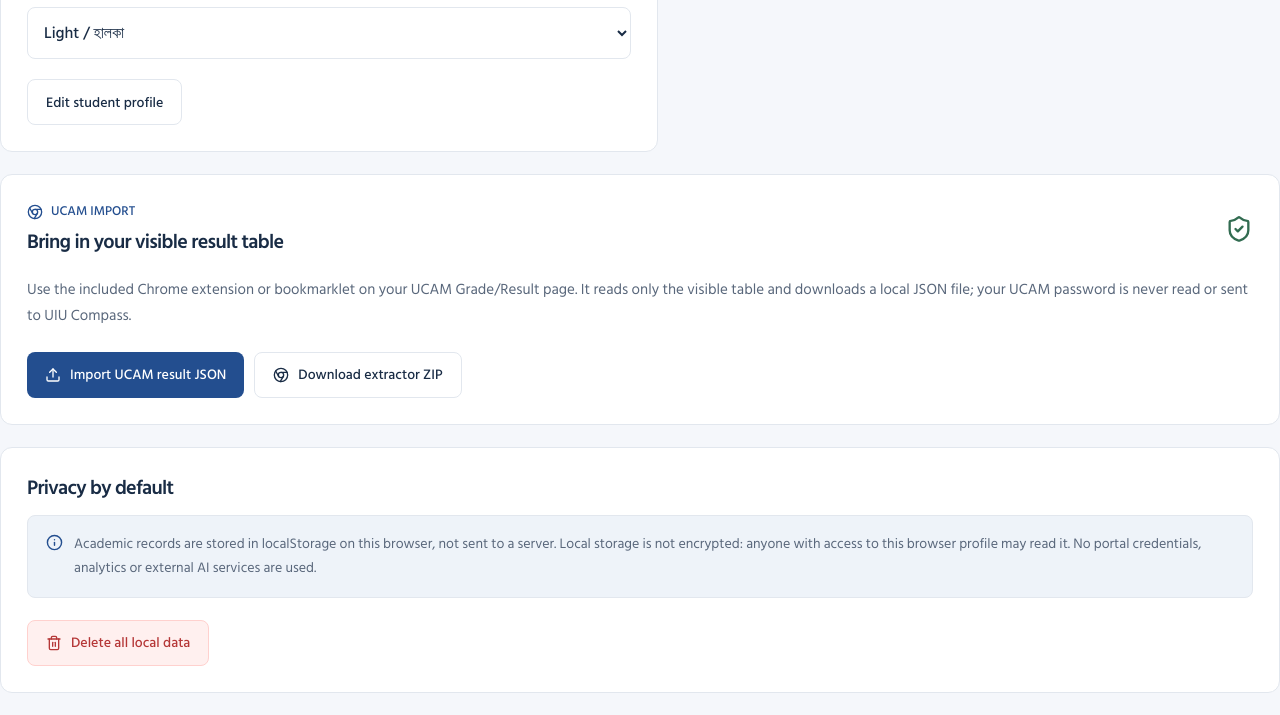
Test: requires confirmation before deletion
(page scrolled)
Click the button "Delete all local data".
click(118, 643)  # box [27,620,209,666]
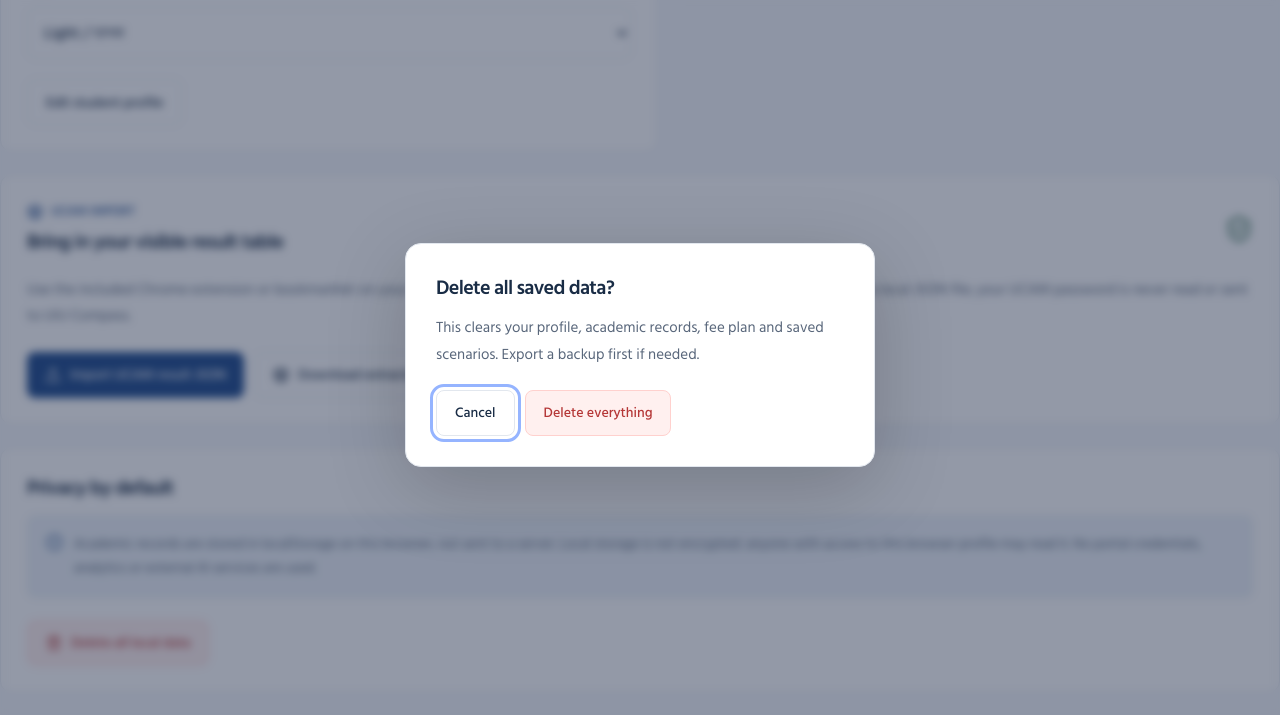
Expected: the dialog is shown, [405,243,875,467]
Click the button "Cancel".
click(475, 413)  # box [436,390,514,436]
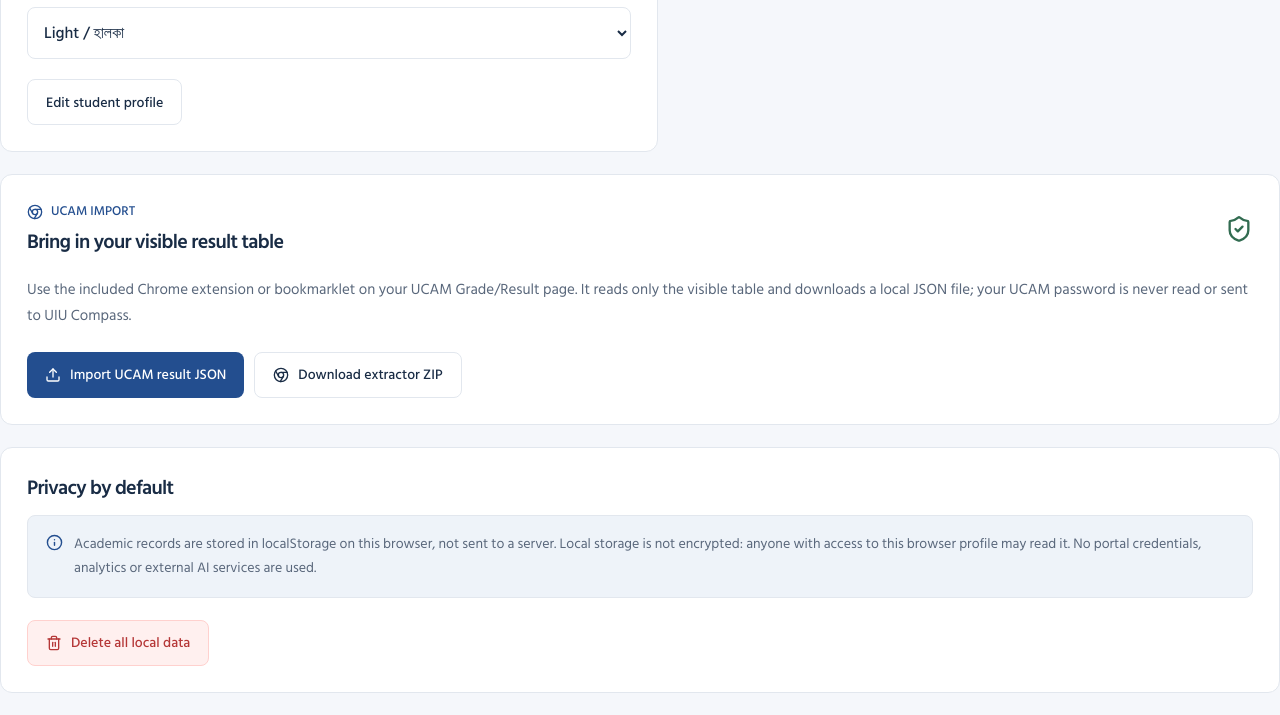
Expected: the dialog is gone
